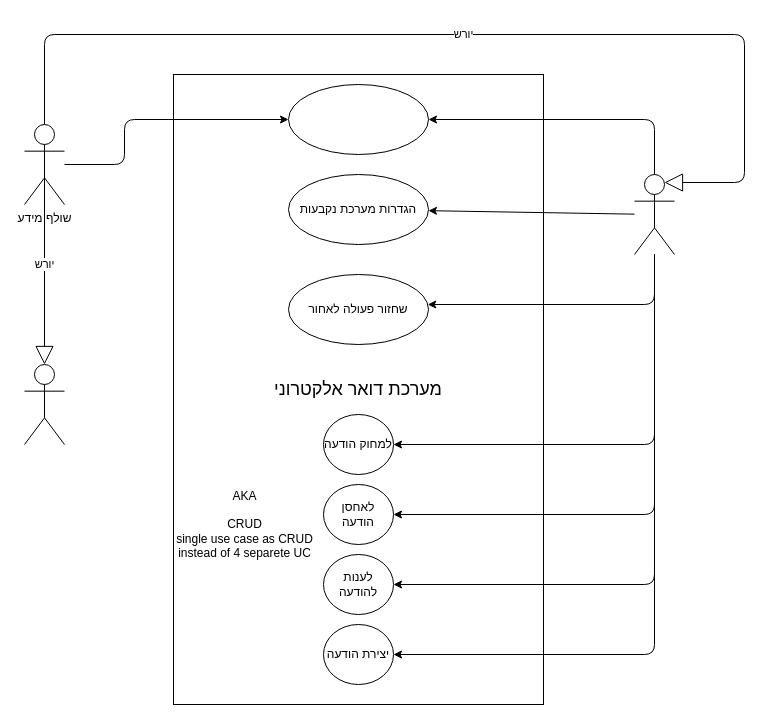
The diagram is 780 pixels wide and 722 high, and some of its shapes have lost their labels. The centre of each missing label's shape, as x and y in pixels:
"10 דקות" goes at (44,404).
"הורדת כל ההודעות החדשות" goes at (358,119).
"תוכנת דואר" goes at (654,214).
